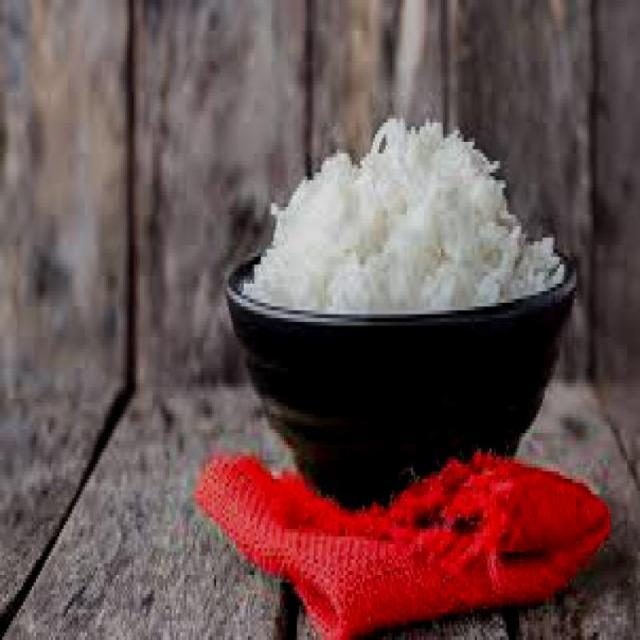Chicken -Chicken Inasal-: (242, 120, 561, 312)
